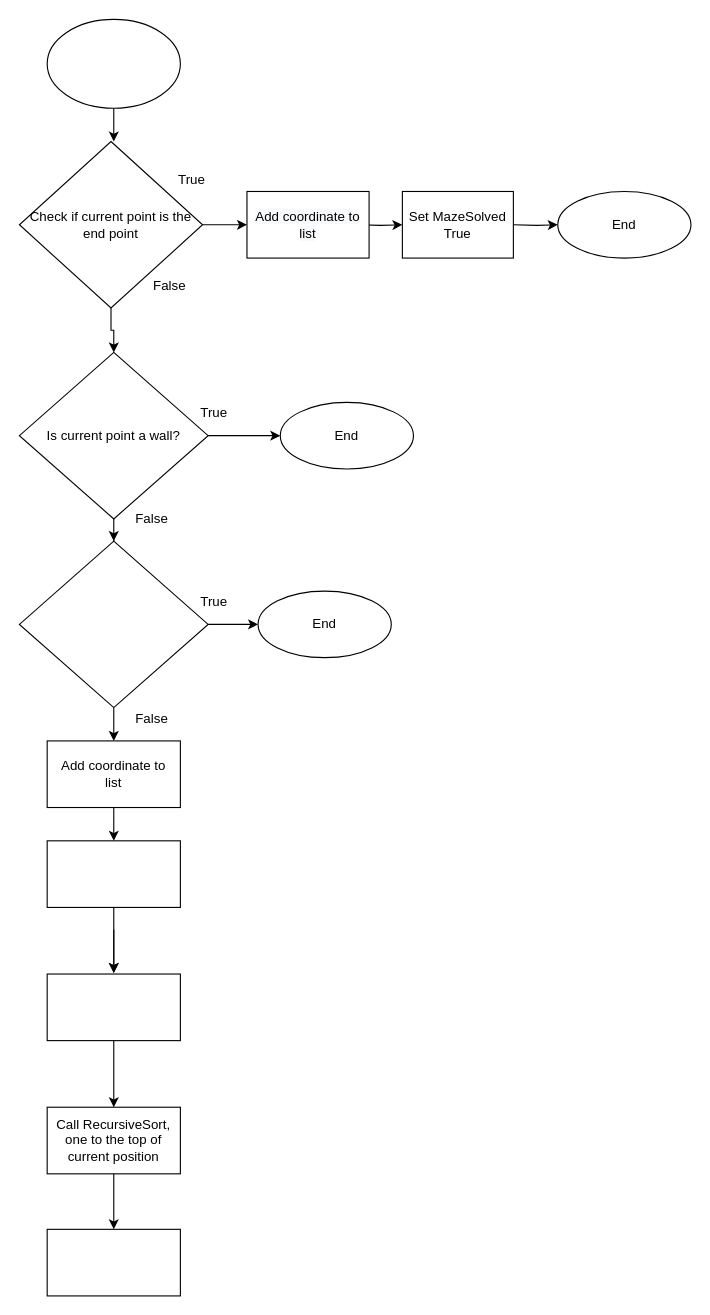
Image size: 710x1315. Some labels were removed from this diagram. The shapes that lost their labels are listed below. From the top down, each one's centre as x and y in pixels, then its label:
point (113, 63): Start RecursiveSort Takes coordinates as input
point (113, 624): Is current point closer to the end point than the last?
point (113, 873): Call RecursiveSort, one to the left of current position
point (113, 1007): Call RecursiveSort, one to the right of current position
point (113, 1262): Call RecursiveSort, one to the bottom of current position
